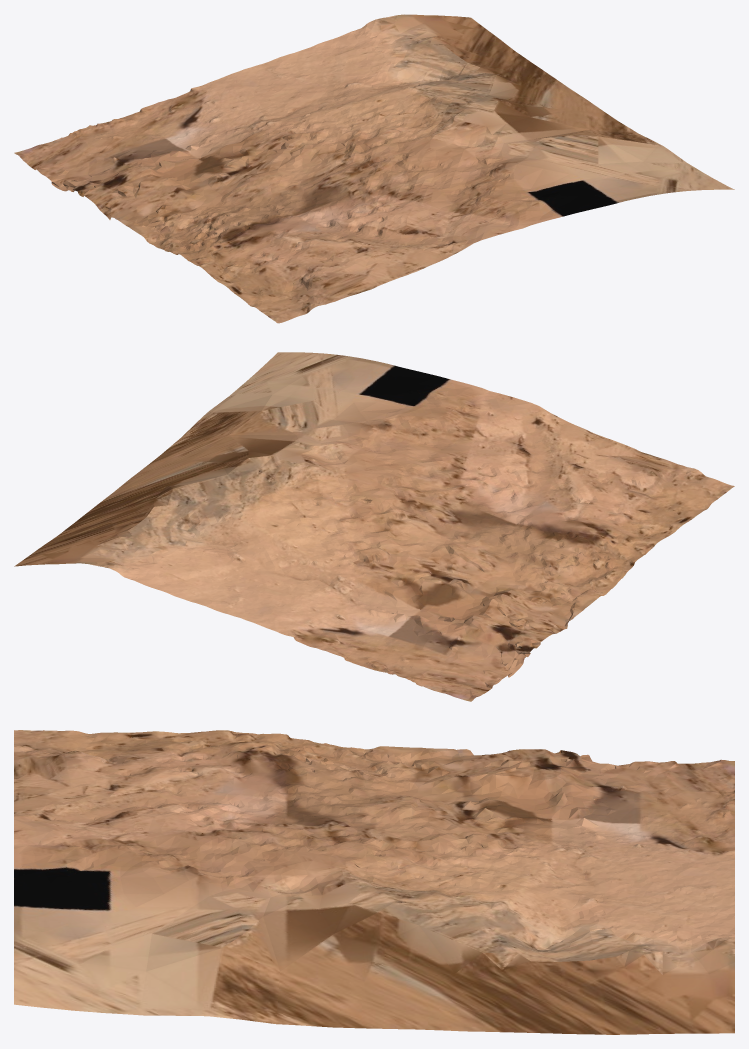
The picture shows the model from 3 angles, top to bottom: view 1: azimuth 30°, elevation 25°; view 2: azimuth 150°, elevation 25°; view 3: azimuth 270°, elevation 25°; orthographic projection. The views are drawn at different scales.
Bounding box in the file's own units: 8.36 × 1.15 × 8.36.
3 materials, 3 textured.
